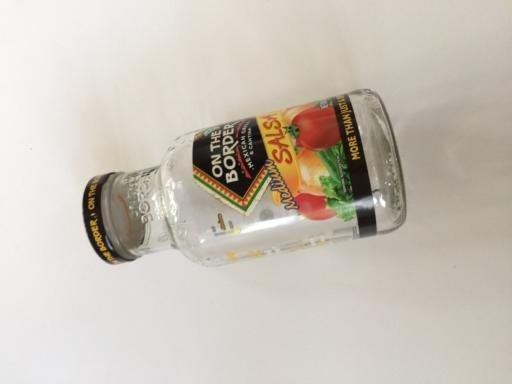botolkaca: (82, 89, 408, 266)
